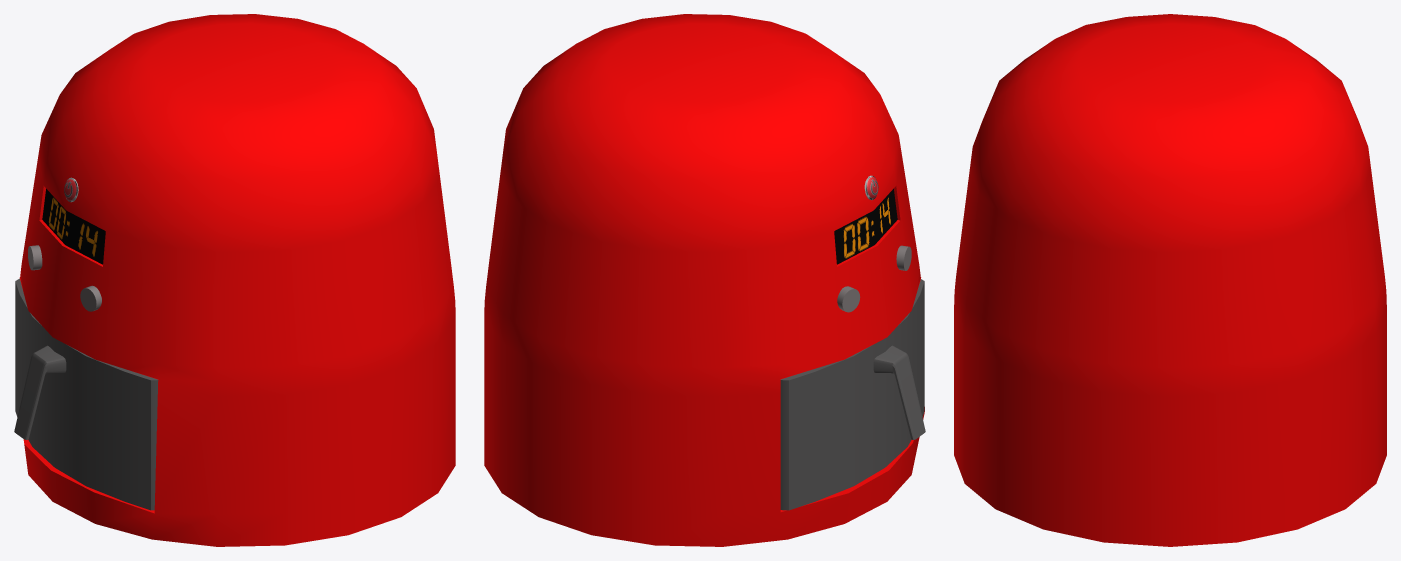
Rendered from Air Fryer.fbx.
The picture shows the model from 3 angles, left to right: view 1: azimuth 30°, elevation 25°; view 2: azimuth 150°, elevation 25°; view 3: azimuth 270°, elevation 25°; orthographic projection.
Parts seen in each view (by area): view 1: pCylinder1, pCube1, pCube2; view 2: pCylinder1, pCube1, pCube2; view 3: pCylinder1.
Part boxes in pixels (bbox=[...]): pCylinder1: bbox=[19, 14, 455, 546]; pCube1: bbox=[15, 278, 158, 510]; pCube2: bbox=[14, 345, 66, 439]; pCylinder1: bbox=[484, 14, 924, 546]; pCube1: bbox=[780, 279, 924, 510]; pCube2: bbox=[873, 345, 925, 439]; pCylinder1: bbox=[954, 14, 1386, 546].
Bounding box in the file's own units: 12.08 × 11.1 × 11.1.
